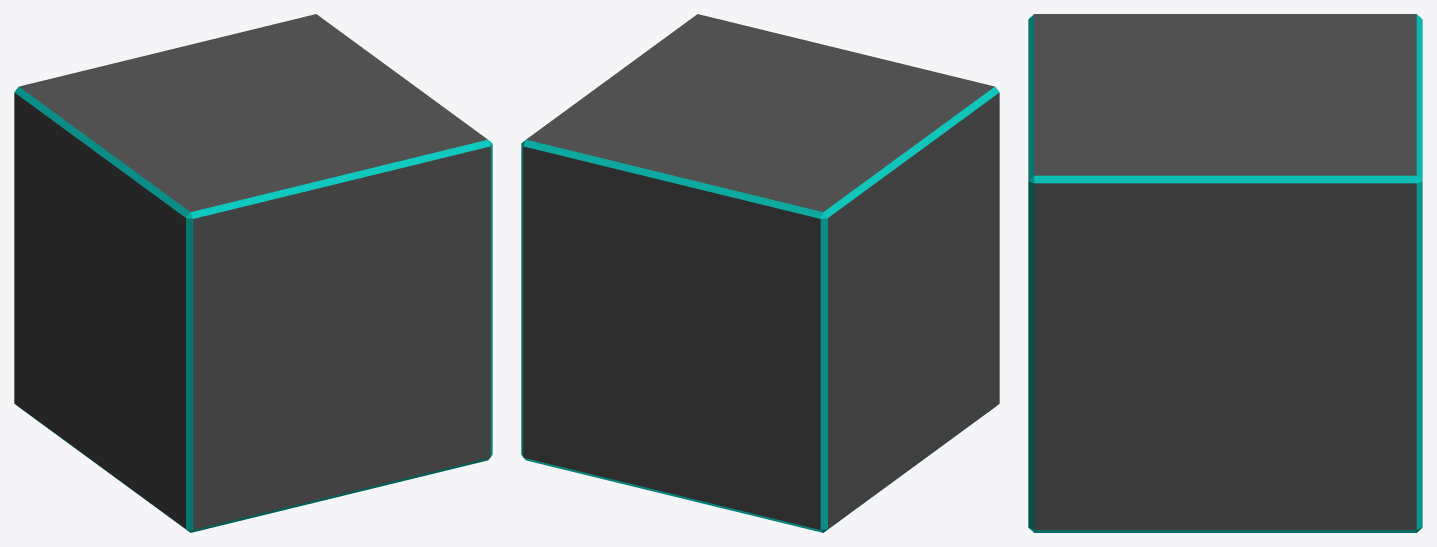
The picture shows the model from 3 angles, left to right: view 1: azimuth 30°, elevation 25°; view 2: azimuth 150°, elevation 25°; view 3: azimuth 270°, elevation 25°; orthographic projection. The views are drawn at different scales.
Visible parts, largest first — view 1: cube_out; view 2: cube_out; view 3: cube_out.
Part boxes in pixels (<box>): cube_out: <box>14,14,492,532</box>; cube_out: <box>521,14,999,532</box>; cube_out: <box>1028,14,1422,532</box>.
Bounding box in the file's own units: 383 × 383 × 383.
